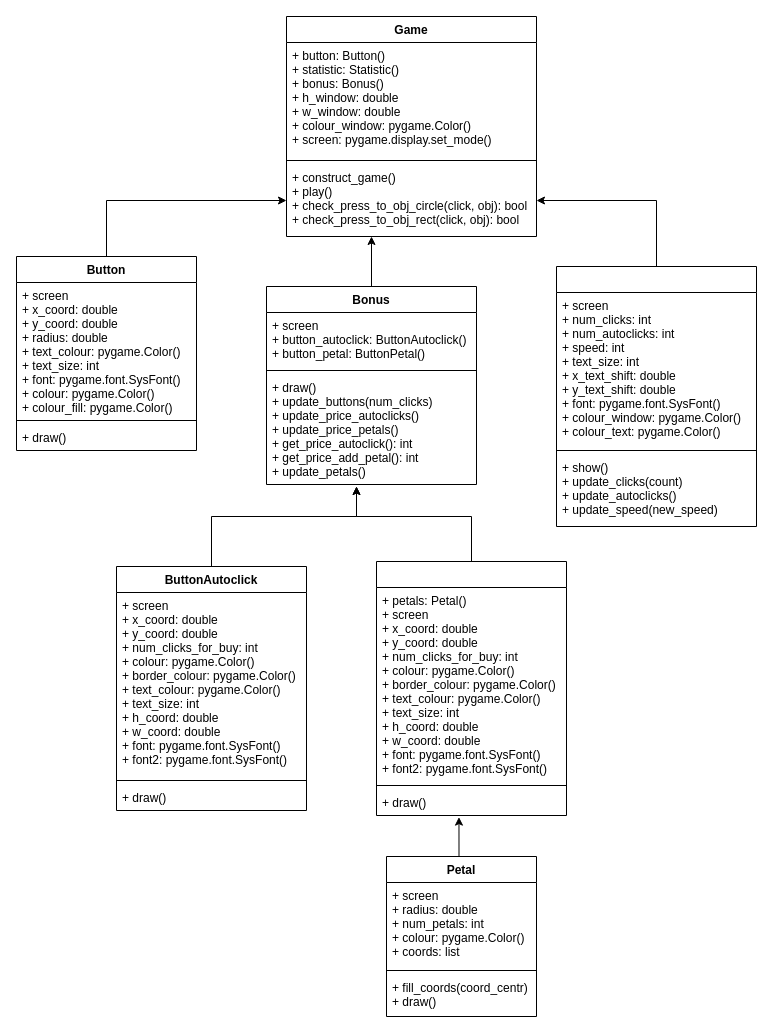
The diagram is 773 pixels wide and 1033 high, and some of its shapes have lost their labels. Here are the shapes that lost their labels. From the top down, the box of each, then its label:
(556, 266, 756, 526): Statistic
(376, 560, 566, 816): ButtonPetal
